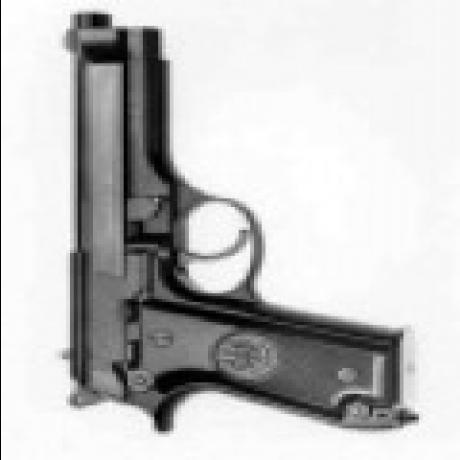weapon: (57, 13, 422, 436)
